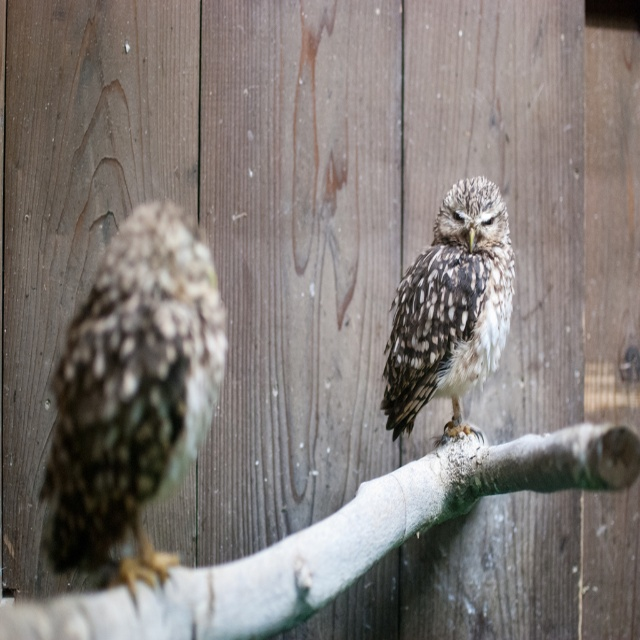Owl: (378, 172, 522, 447)
